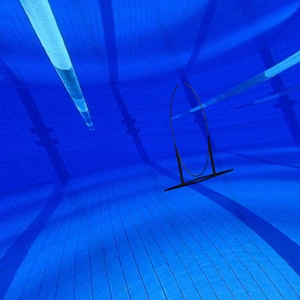circle: (162, 81, 235, 194)
